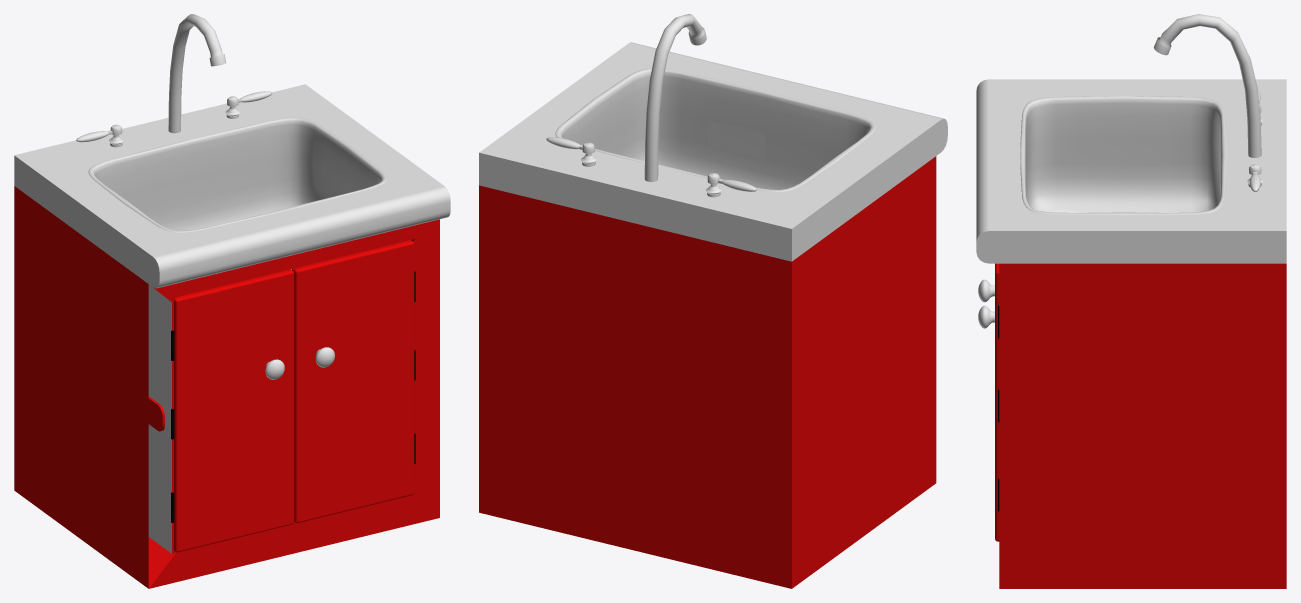
Rendered from bench_wSink.fbx.
3 renders of one model, left to right at view 1: azimuth 30°, elevation 25°; view 2: azimuth 150°, elevation 25°; view 3: azimuth 270°, elevation 25°, orthographic. The views are drawn at different scales.
Visible parts, largest first — view 1: Bench_wSink; view 2: Bench_wSink; view 3: Bench_wSink.
Boxes of the visible parts, box(x1,y1,x2,y2) form: Bench_wSink: box(14, 14, 450, 588); Bench_wSink: box(479, 14, 947, 588); Bench_wSink: box(976, 14, 1286, 588).
Size of the model in its own units: 75 by 115 by 64.8.
